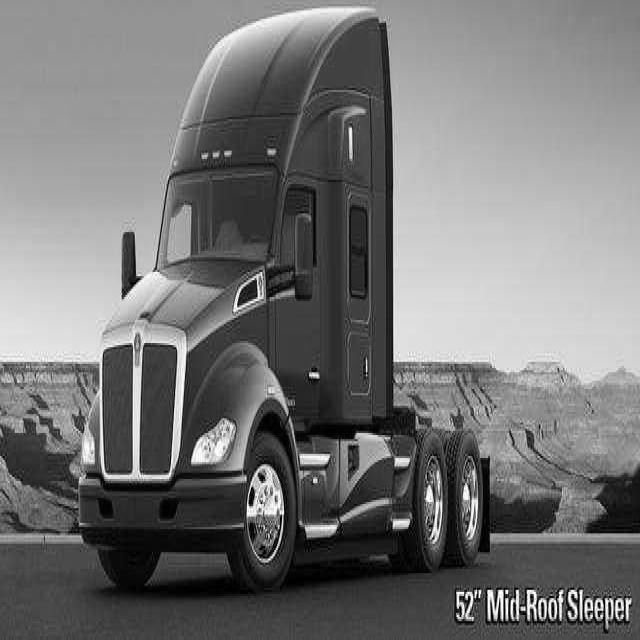Truck: (78, 13, 486, 588)
